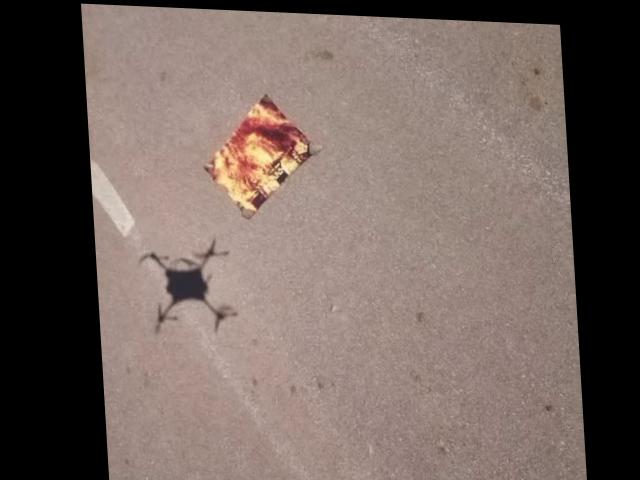fire-poster: (194, 88, 323, 222)
